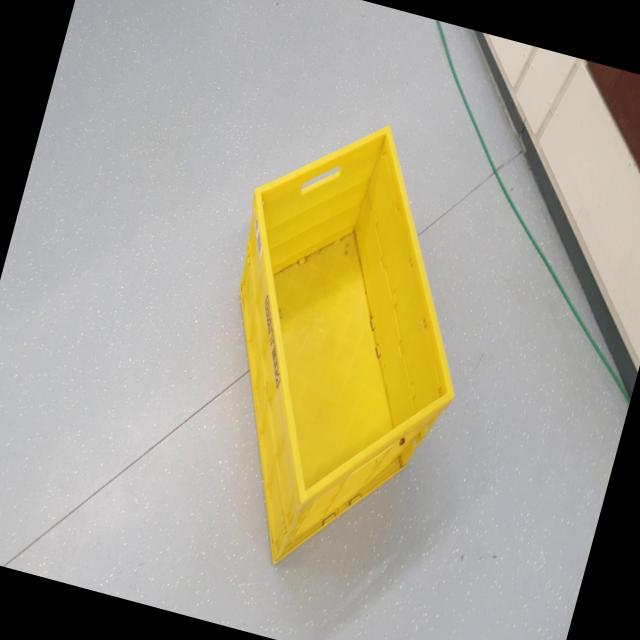box: (154, 80, 525, 613)
